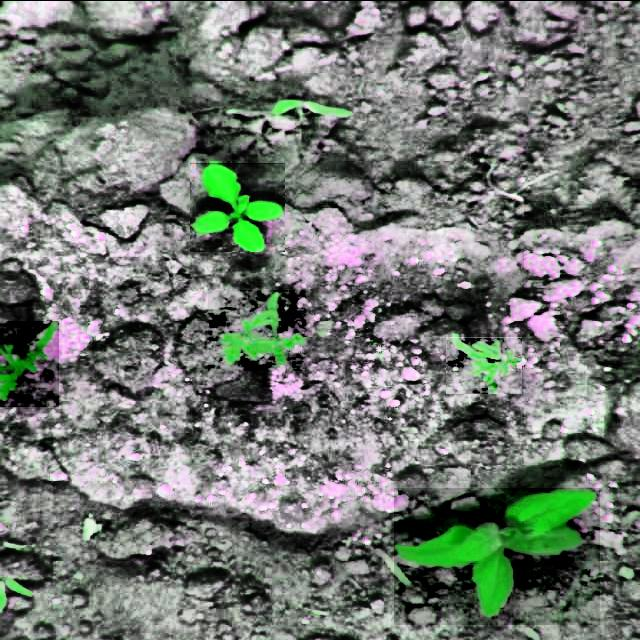Weeds: (394, 487, 600, 624), (190, 160, 285, 250)
undefined: (208, 289, 306, 370), (0, 320, 59, 406), (446, 334, 522, 392)
